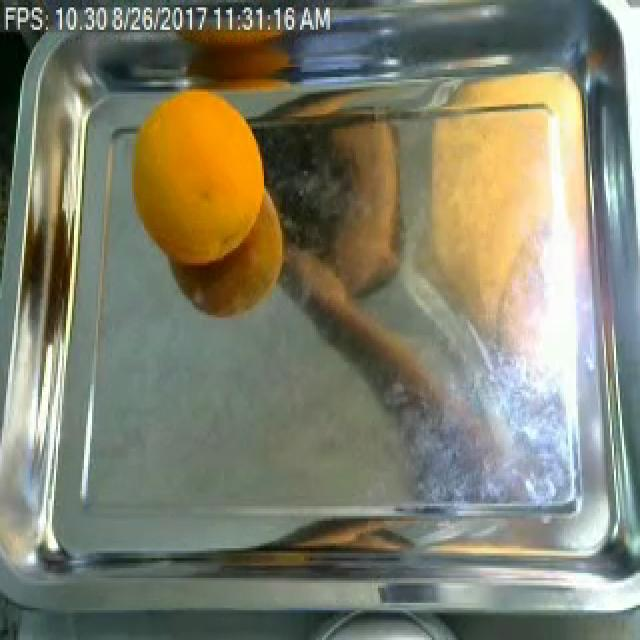Fruit: (108, 69, 280, 288)
